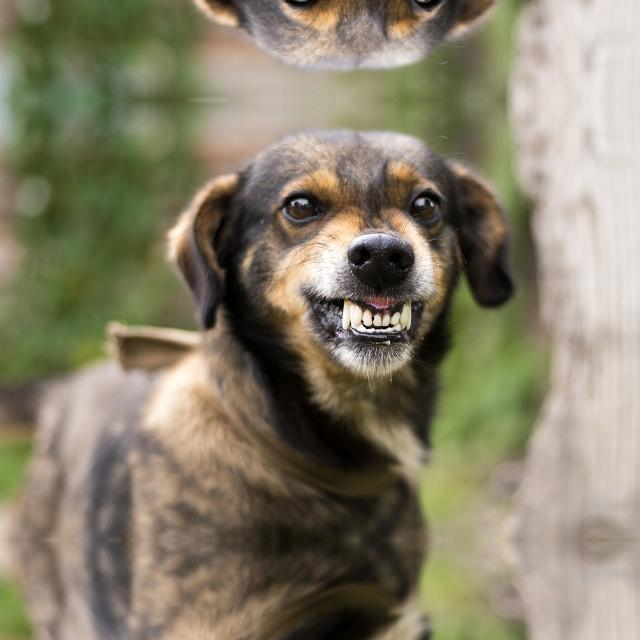dog: (154, 106, 524, 390), (154, 0, 523, 91)
